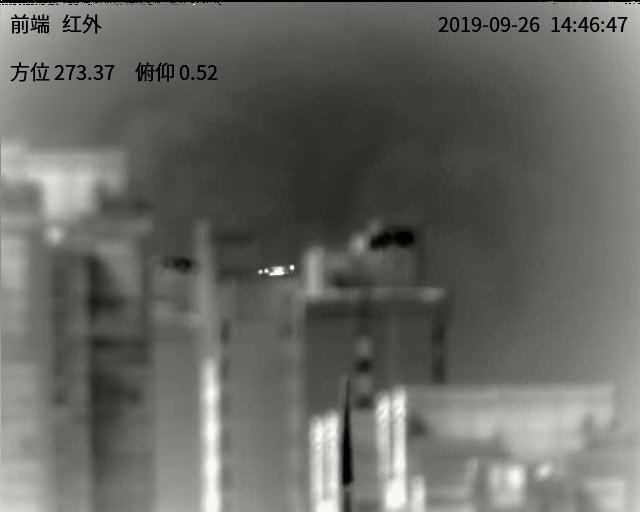DRONE: (257, 263, 296, 278)
